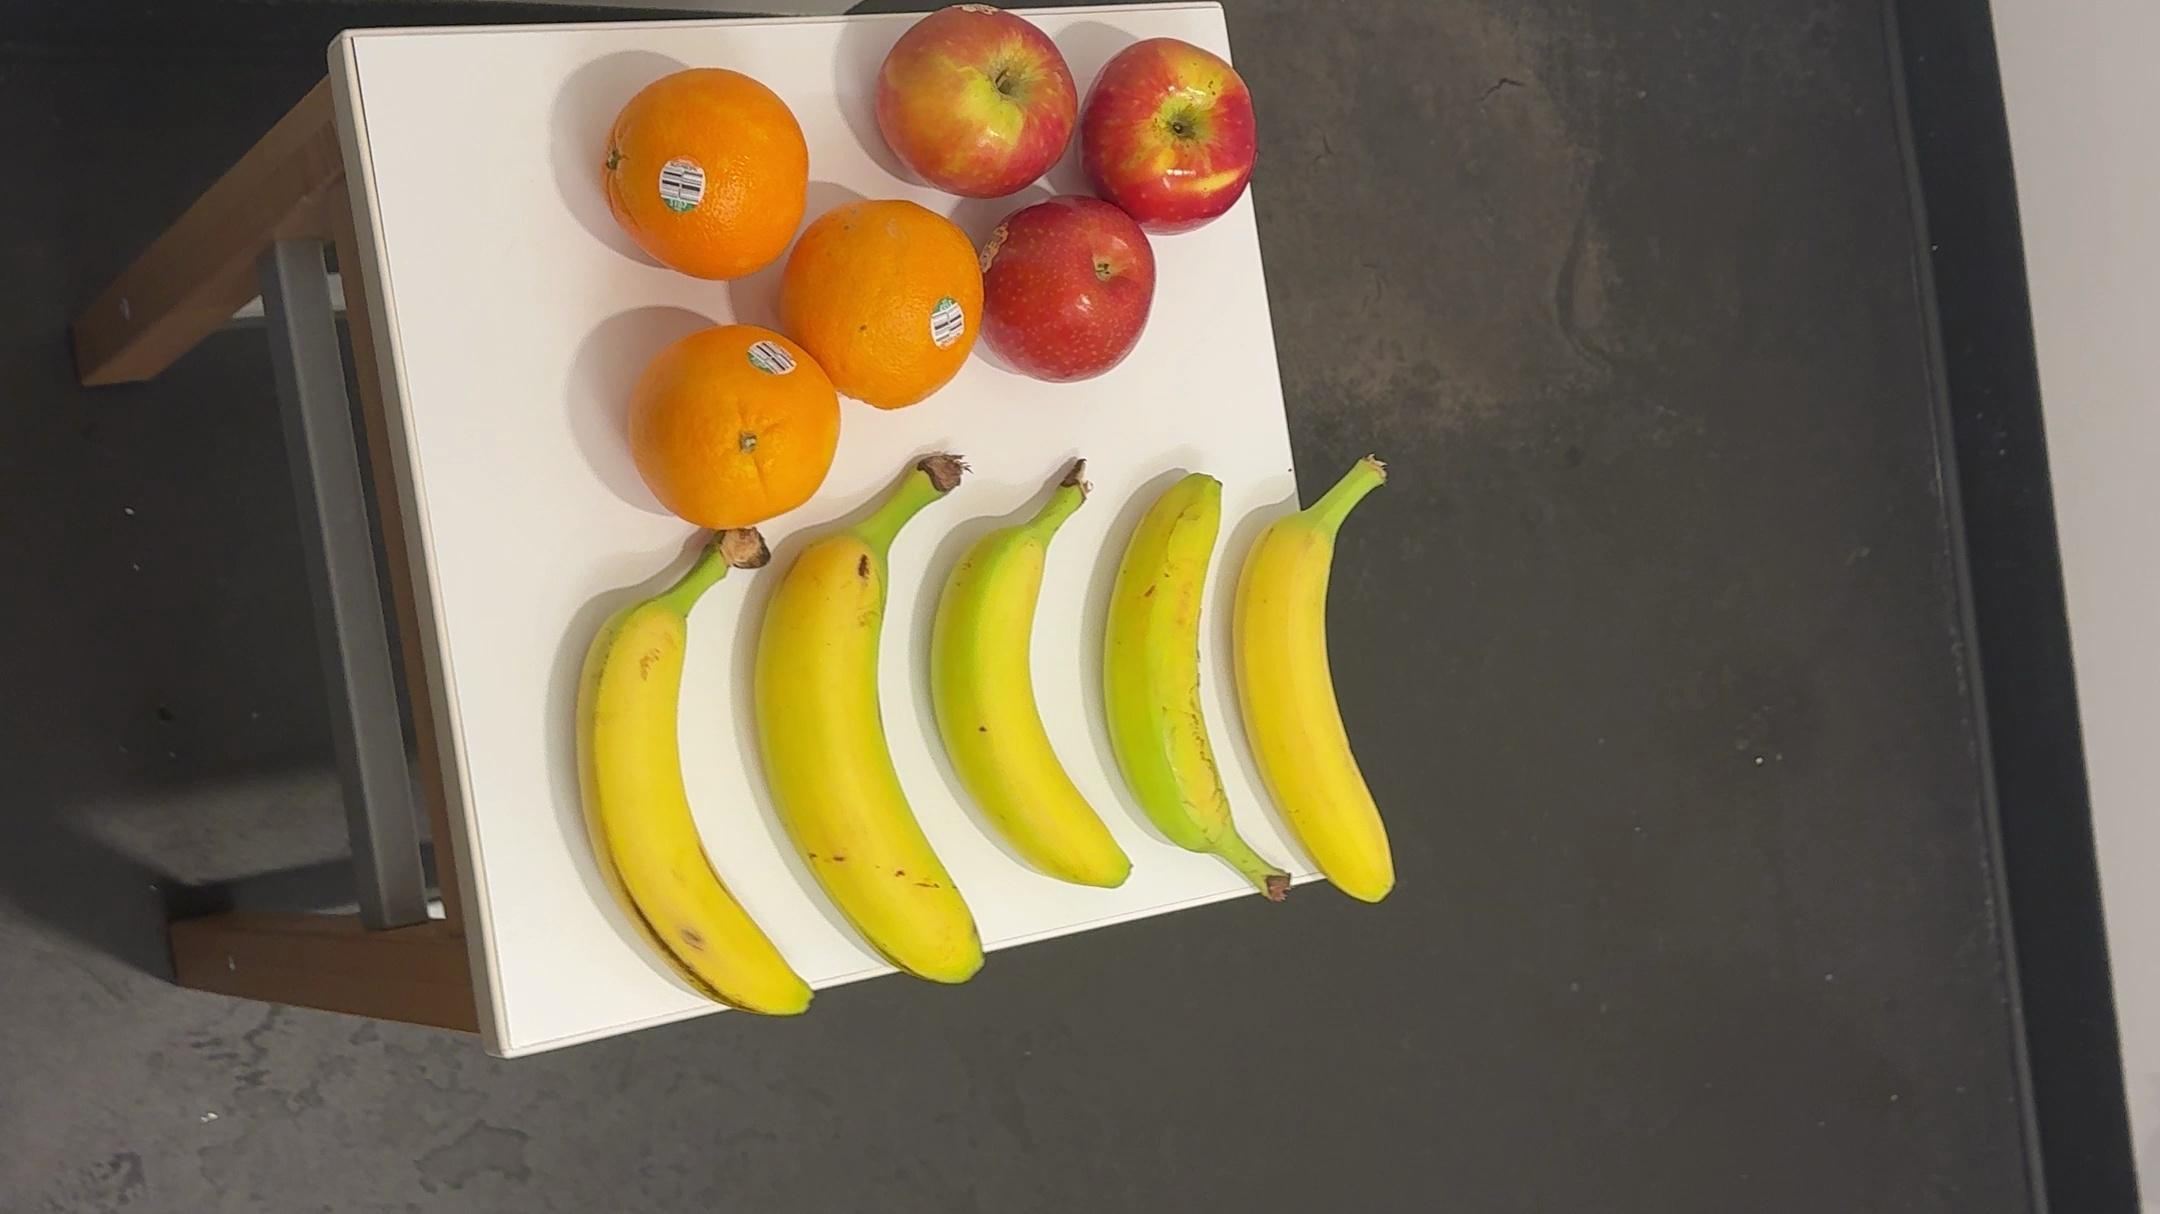apple: (863, 1, 1074, 209), (1079, 37, 1268, 240), (991, 200, 1169, 396)
banana: (757, 451, 1015, 1003), (550, 521, 820, 1037), (1219, 442, 1435, 925), (1096, 450, 1308, 923), (935, 441, 1145, 902)
orange: (623, 313, 853, 534), (593, 56, 806, 292), (783, 194, 988, 419)
